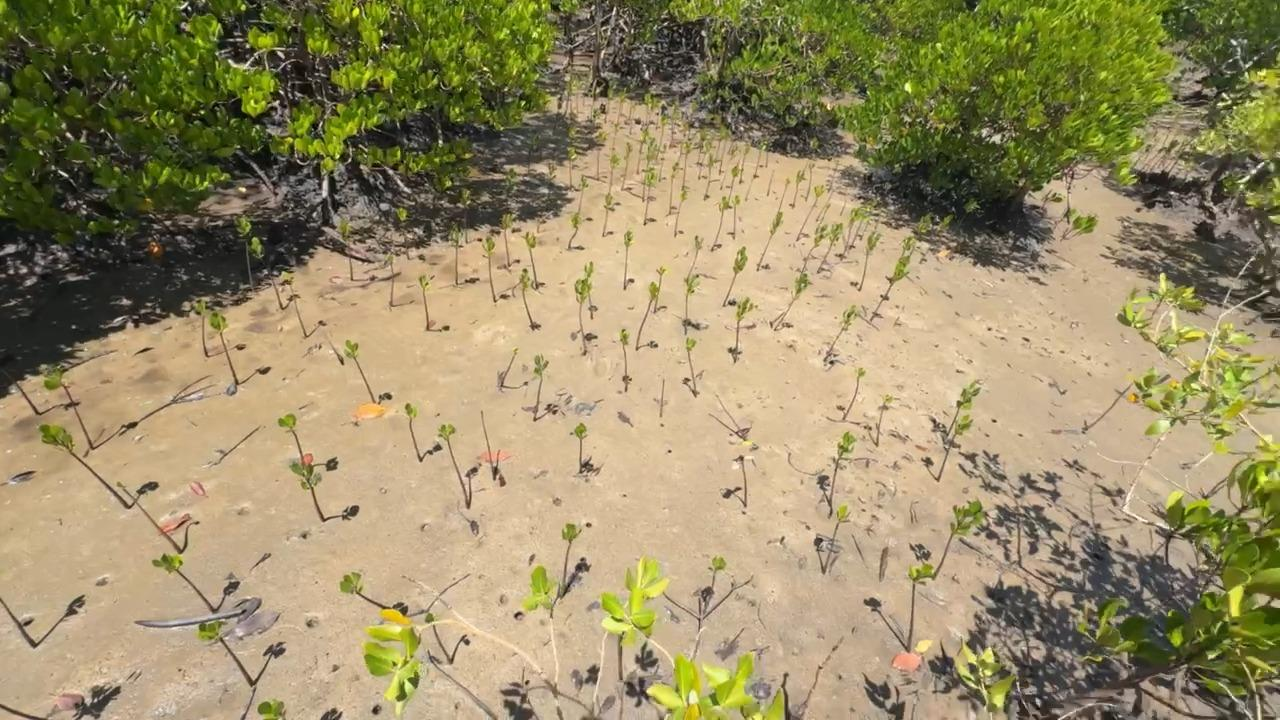Tree: (36, 423, 131, 509), (116, 482, 183, 555), (41, 363, 94, 449), (931, 498, 985, 580), (151, 553, 218, 613), (197, 622, 254, 687), (437, 423, 470, 510), (869, 255, 911, 321), (907, 563, 936, 653), (249, 237, 284, 309), (937, 414, 974, 482), (1082, 383, 1133, 432), (828, 431, 857, 517), (289, 460, 325, 523), (945, 379, 983, 437), (773, 273, 811, 330), (344, 338, 377, 403), (823, 304, 859, 363), (209, 311, 238, 383), (822, 505, 851, 575), (339, 572, 392, 610), (0, 366, 41, 415), (0, 597, 38, 649), (232, 214, 256, 293), (281, 270, 308, 337), (559, 524, 582, 599), (635, 281, 660, 350), (756, 211, 784, 272), (919, 214, 953, 264), (796, 184, 825, 242), (722, 245, 748, 308), (816, 222, 844, 275), (702, 555, 726, 616), (858, 231, 882, 292), (574, 278, 593, 355), (425, 612, 453, 664), (277, 413, 305, 465), (801, 224, 829, 276), (715, 394, 747, 439), (733, 296, 754, 364), (949, 198, 980, 242), (888, 235, 916, 283), (745, 139, 765, 202), (843, 367, 866, 420), (683, 272, 702, 335), (840, 208, 862, 262), (1060, 214, 1100, 243), (481, 410, 497, 481), (533, 353, 549, 422), (521, 231, 540, 289), (405, 403, 423, 463), (337, 218, 354, 280), (711, 195, 729, 253), (482, 236, 497, 302), (519, 268, 536, 326), (642, 138, 657, 203), (910, 212, 932, 256), (849, 205, 870, 250), (194, 299, 210, 357), (859, 198, 879, 241), (876, 394, 892, 447), (674, 186, 690, 239), (448, 221, 461, 286), (685, 337, 699, 397), (655, 104, 669, 162), (0, 704, 49, 720), (499, 348, 518, 389), (552, 86, 567, 136), (396, 207, 410, 260), (687, 235, 704, 278), (574, 422, 588, 474), (623, 230, 635, 290), (500, 212, 513, 267), (668, 161, 681, 216), (643, 171, 656, 226), (418, 274, 430, 331), (636, 128, 650, 175), (257, 699, 288, 720), (620, 328, 630, 393), (602, 191, 616, 237), (718, 129, 732, 175), (654, 265, 667, 313), (460, 187, 471, 243), (697, 140, 712, 181), (568, 212, 584, 250), (791, 169, 806, 209), (596, 131, 608, 181), (1053, 208, 1080, 230), (584, 261, 594, 320), (588, 107, 601, 151), (815, 192, 834, 222), (712, 125, 727, 163), (681, 140, 692, 191), (385, 252, 395, 306), (1040, 189, 1067, 209), (621, 142, 632, 191), (505, 168, 518, 209), (813, 203, 830, 234), (607, 155, 620, 195), (703, 153, 713, 202), (804, 162, 816, 202), (738, 454, 747, 507), (567, 146, 578, 189), (739, 143, 750, 184), (697, 127, 709, 164), (687, 101, 698, 141), (669, 113, 681, 149), (827, 160, 840, 193), (566, 76, 576, 117), (528, 136, 539, 173), (578, 177, 589, 213), (728, 166, 739, 201), (658, 144, 668, 182), (779, 177, 790, 211), (733, 195, 741, 241), (547, 163, 557, 199), (604, 88, 614, 124), (572, 76, 581, 116), (590, 87, 600, 122), (671, 99, 680, 134), (616, 91, 625, 126), (653, 96, 662, 130), (628, 103, 637, 136), (644, 92, 652, 128), (566, 123, 576, 146), (767, 169, 775, 197), (660, 378, 665, 417), (765, 141, 771, 168), (613, 124, 618, 153), (873, 214, 881, 231), (840, 199, 847, 216), (720, 176, 726, 191)
